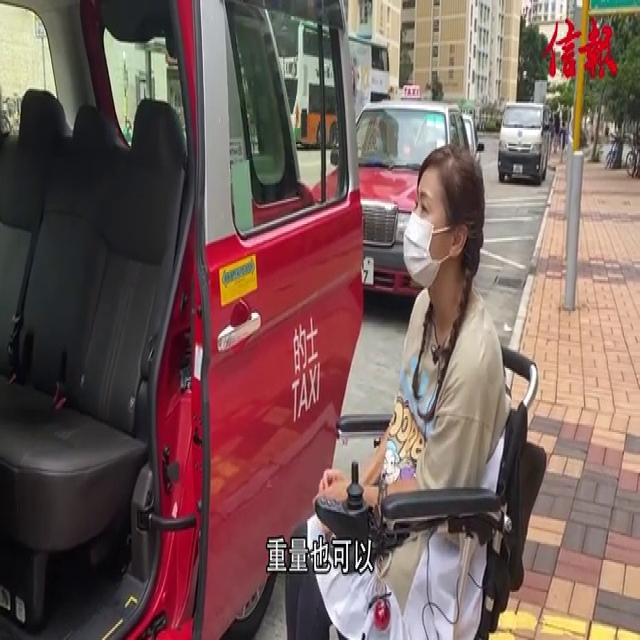wheelchairs: (311, 340, 548, 632)
